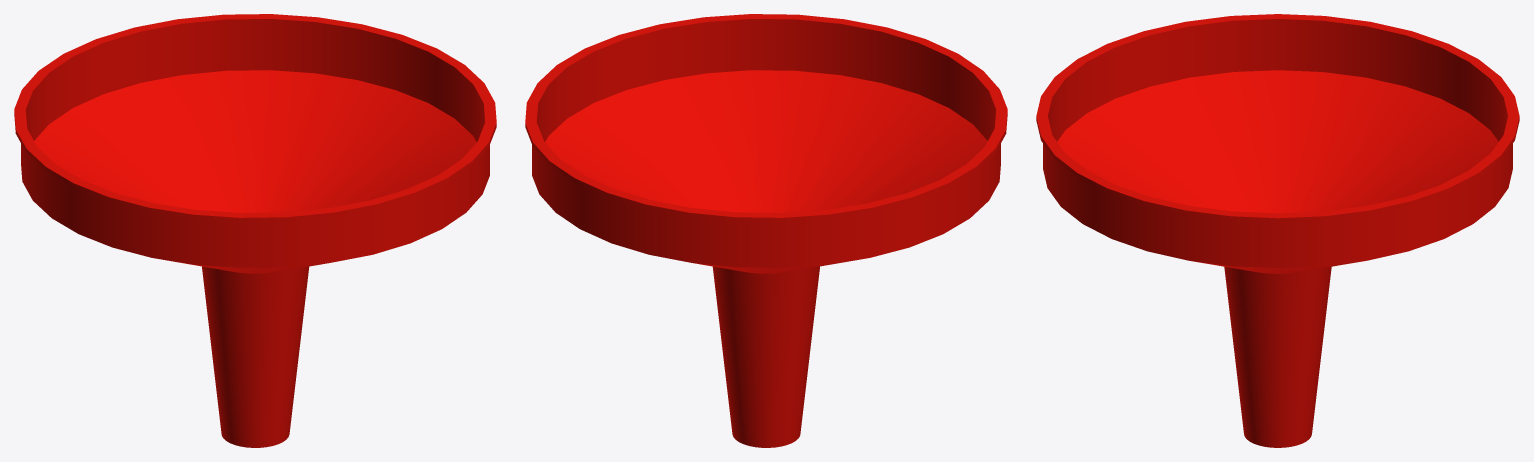
Rendered from fUNNEL.fbx.
3 views of the same model, side by side, from view 1: azimuth 30°, elevation 25°; view 2: azimuth 150°, elevation 25°; view 3: azimuth 270°, elevation 25° (orthographic).
Visible parts, largest first — view 1: Funnel; view 2: Funnel; view 3: Funnel.
Boxes of the visible parts, x1,y1,x2,y2 form: Funnel: (14,14,496,447); Funnel: (525,14,1007,447); Funnel: (1036,14,1519,447).
Size of the model in its own units: 1253 by 908 by 1253.
